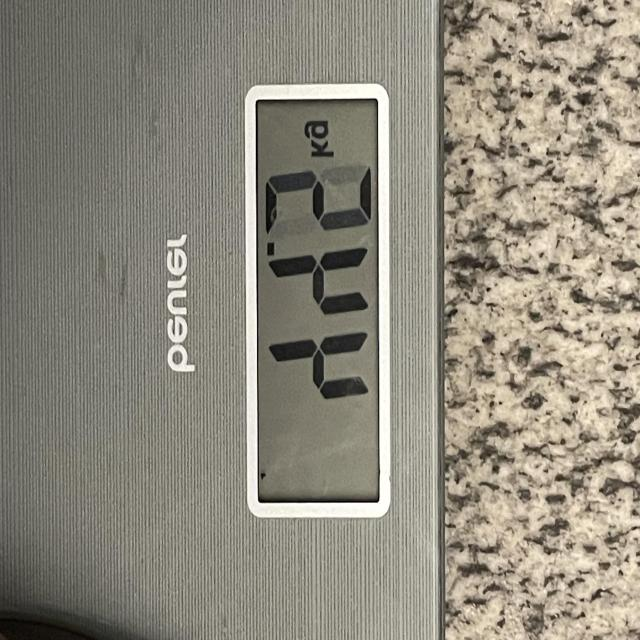ws: (0, 0, 448, 640)
